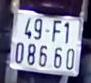0: (65, 46, 77, 71), (14, 39, 25, 65)
1: (63, 19, 71, 45)
4: (23, 14, 33, 39)
6: (38, 45, 49, 70), (52, 46, 63, 71)
8: (27, 42, 37, 68)
9: (33, 17, 44, 41)
F: (50, 18, 63, 44)
